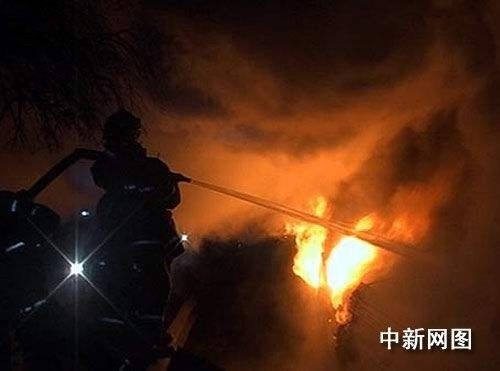fire: (284, 191, 382, 301)
